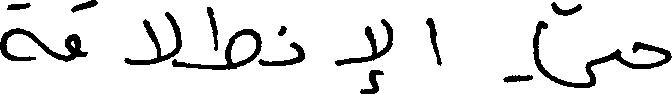X: (533, 0, 616, 92), (207, 2, 259, 74), (127, 7, 178, 71), (336, 21, 376, 93), (0, 0, 33, 65), (636, 37, 671, 73), (66, 0, 78, 66), (382, 14, 391, 79), (428, 13, 438, 69), (291, 37, 302, 69)
